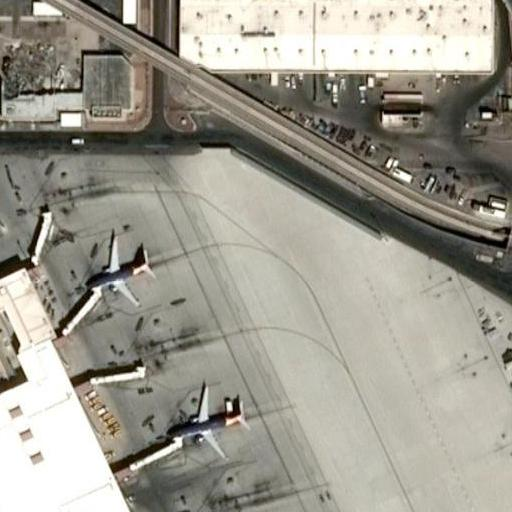Aircraft: (168, 381, 249, 457), (86, 236, 156, 305)
